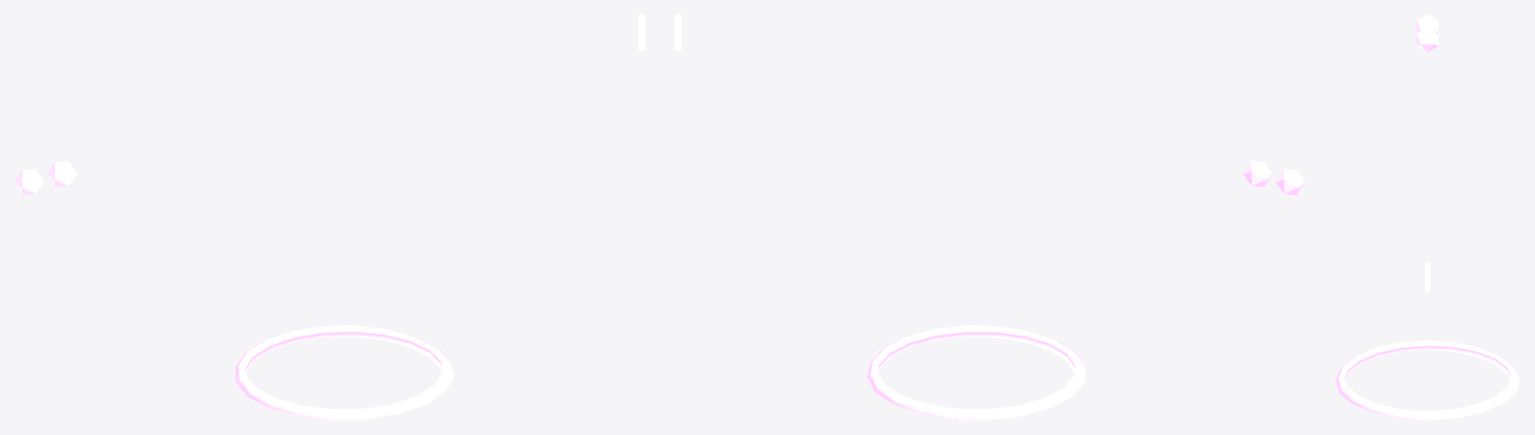
File: fx_elite_split.glb
The picture shows the model from 3 angles, left to right: view 1: azimuth 30°, elevation 25°; view 2: azimuth 150°, elevation 25°; view 3: azimuth 270°, elevation 25°; orthographic projection. The views are drawn at different scales.
Parts seen in each view (by area): view 1: auraRing_ring, splitMark_splitOrb; view 2: auraRing_ring, splitMark_splitOrb; view 3: auraRing_ring, splitMark_splitOrb.
Boxes of the visible parts, <box> form: auraRing_ring: <box>233,325,453,420</box>; splitMark_splitOrb: <box>14,161,76,195</box>; auraRing_ring: <box>866,325,1086,420</box>; splitMark_splitOrb: <box>1243,161,1305,195</box>; auraRing_ring: <box>1334,340,1520,420</box>; splitMark_splitOrb: <box>1416,14,1438,52</box>.
Size of the model in its own units: 3.84 by 1.7 by 1.18.
